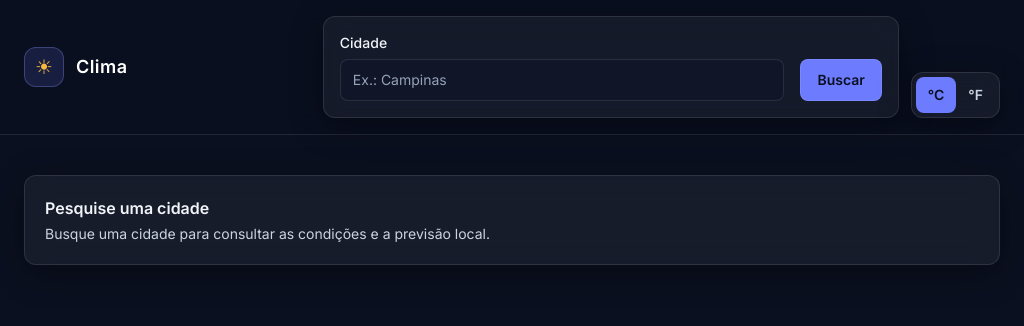
Test: App › shows empty when geocoding returns no cities
The width and height of the screenshot is (1024, 326).
In the search field labelled "Cidade": x=562, y=80 x1=340 y1=59 x2=784 y2=101, type "Cidade inexistente"
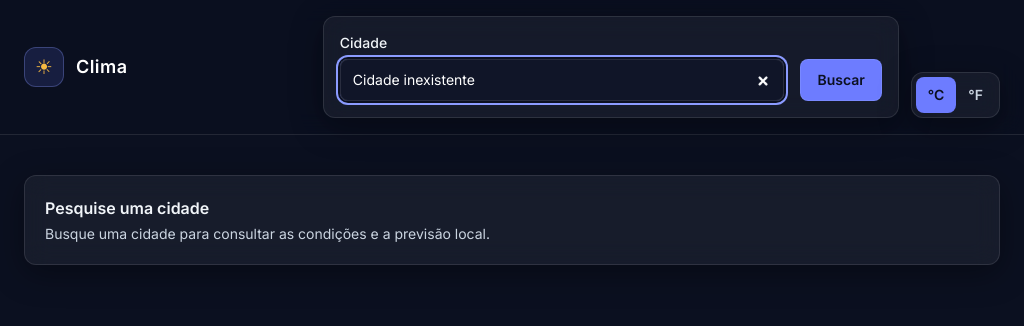
Click the button "Buscar": x=841, y=80 x1=800 y1=59 x2=882 y2=101
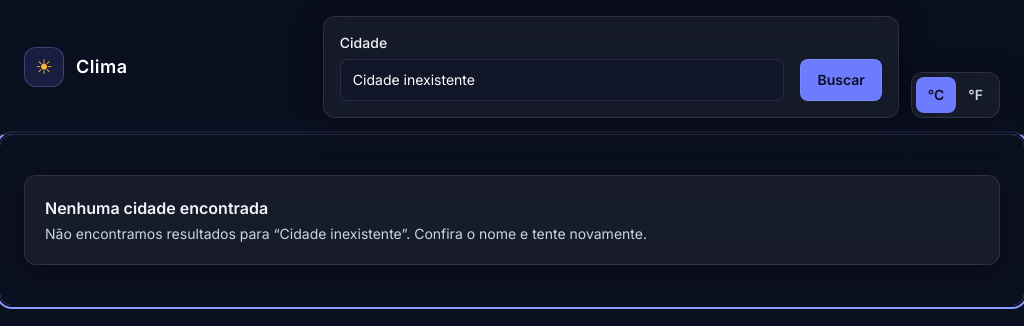
Expected: the heading "Nenhuma cidade encontrada" is shown, x1=45 y1=198 x2=268 y2=218
